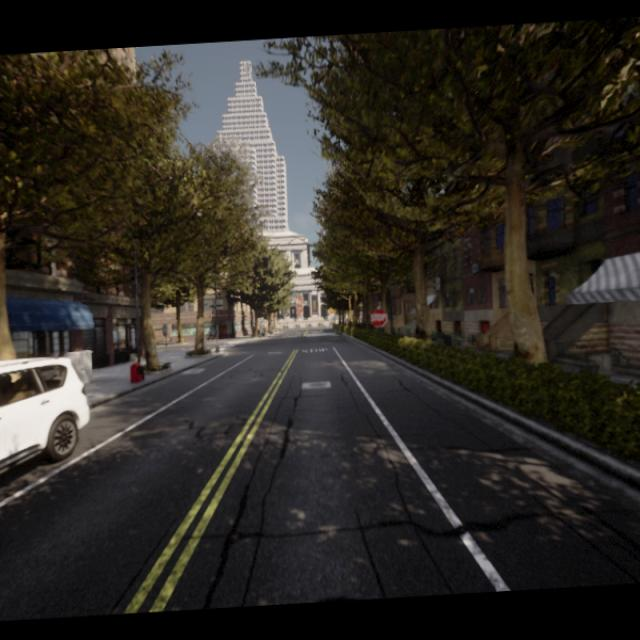stop sign: (367, 303, 390, 331)
